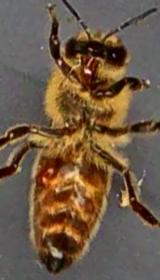varroa_mite: (30, 156, 59, 188)
